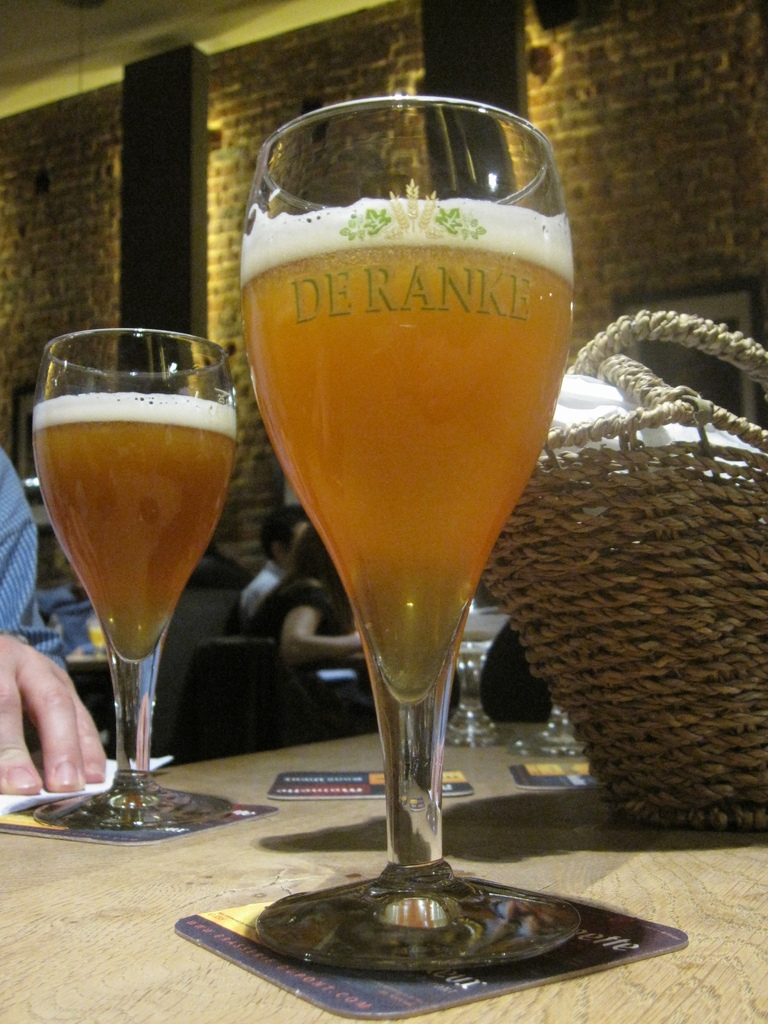Beer: (243, 207, 575, 714), (35, 384, 231, 665)
